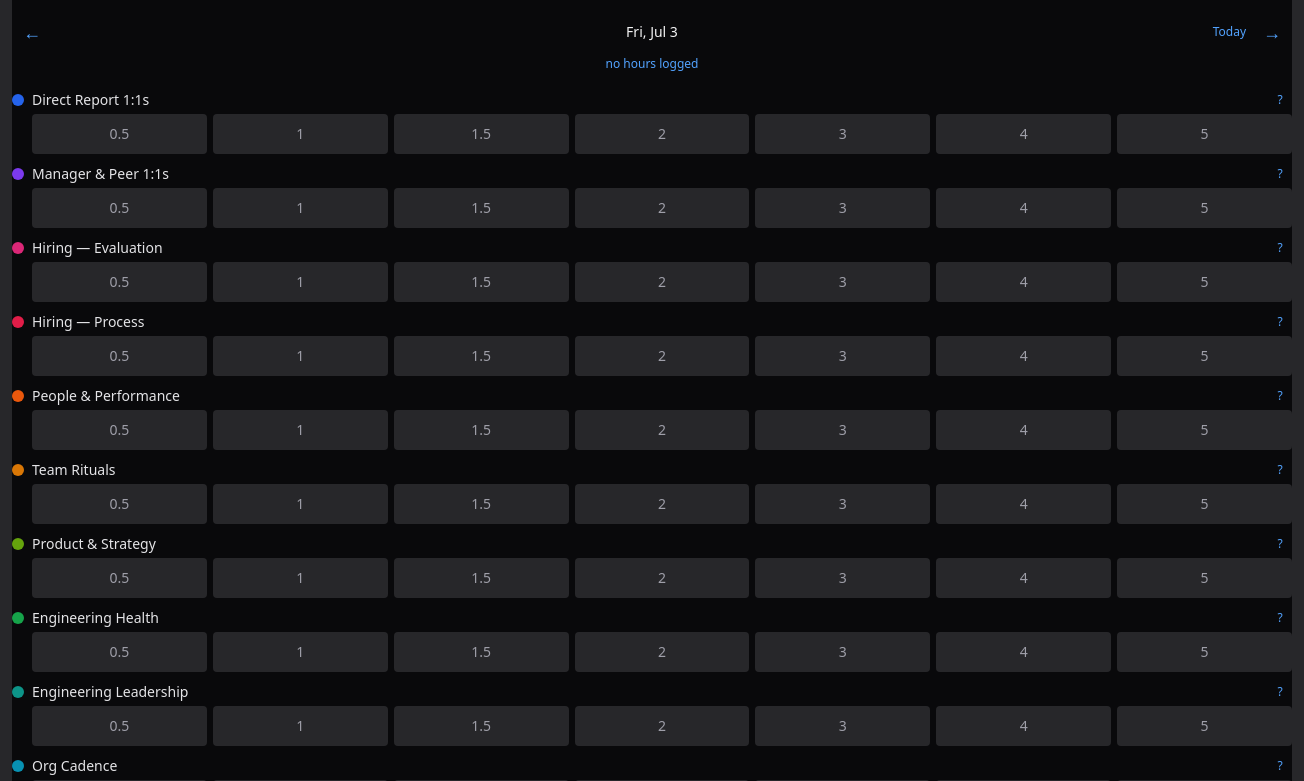
it: LogView › navigates back to today after going to previous day
The image size is (1304, 781).
Step 1. Click the button named "Previous day" → (32, 32), box [12, 12, 52, 52]
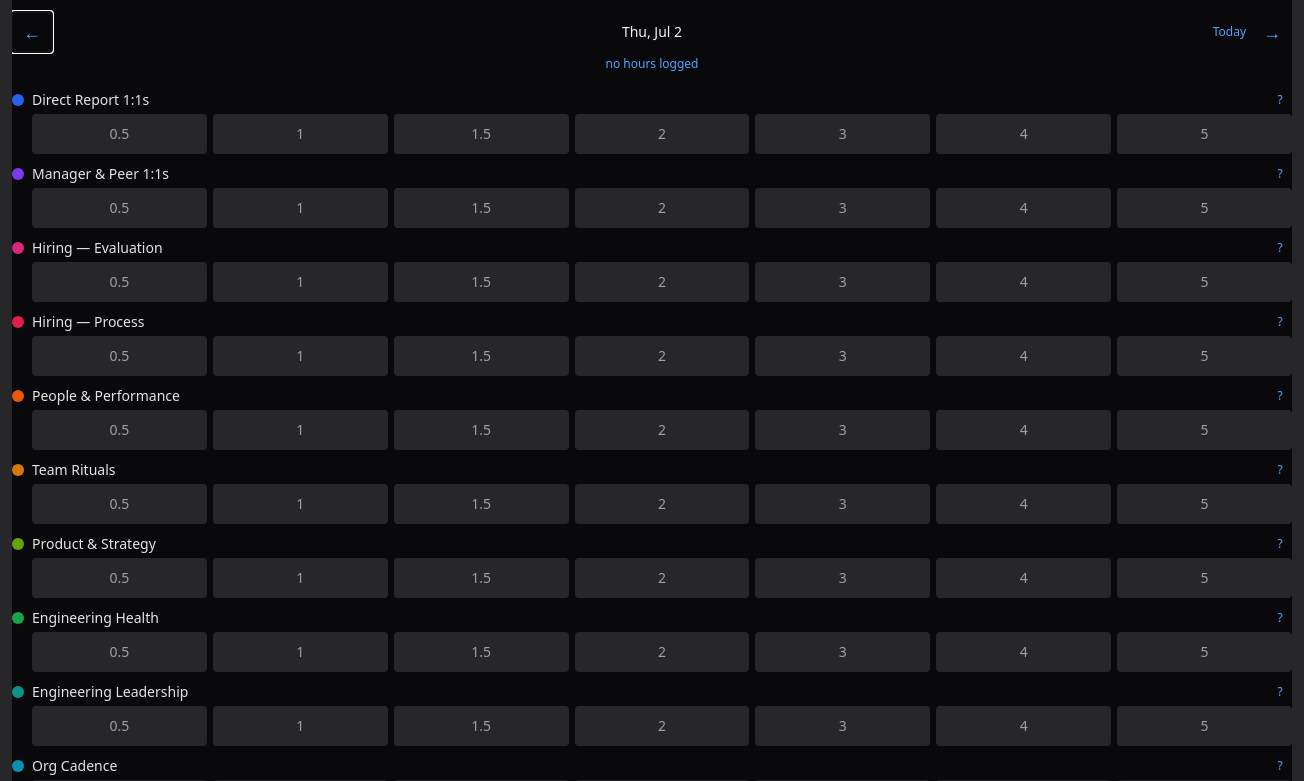
Step 2. Click the button "Today" → (1229, 32), box [1213, 24, 1246, 40]
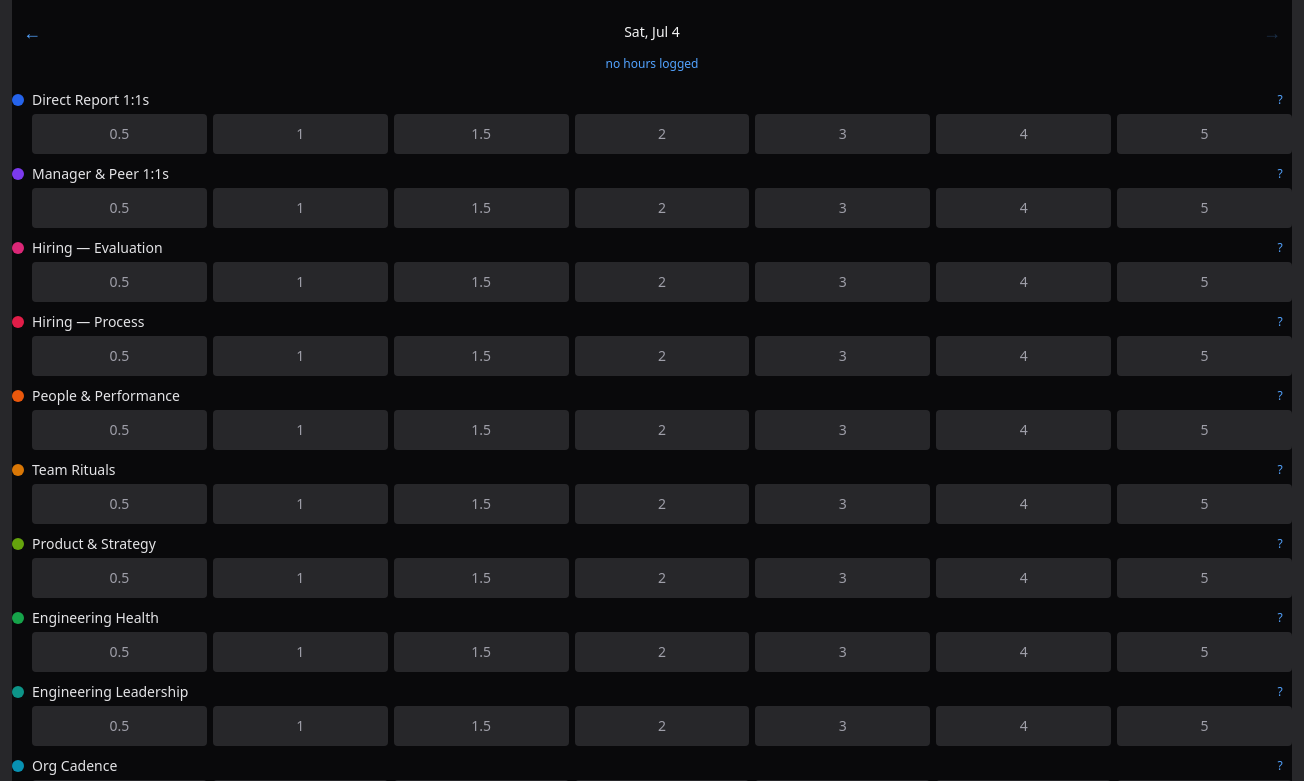
Expected: the button "Today" is gone
